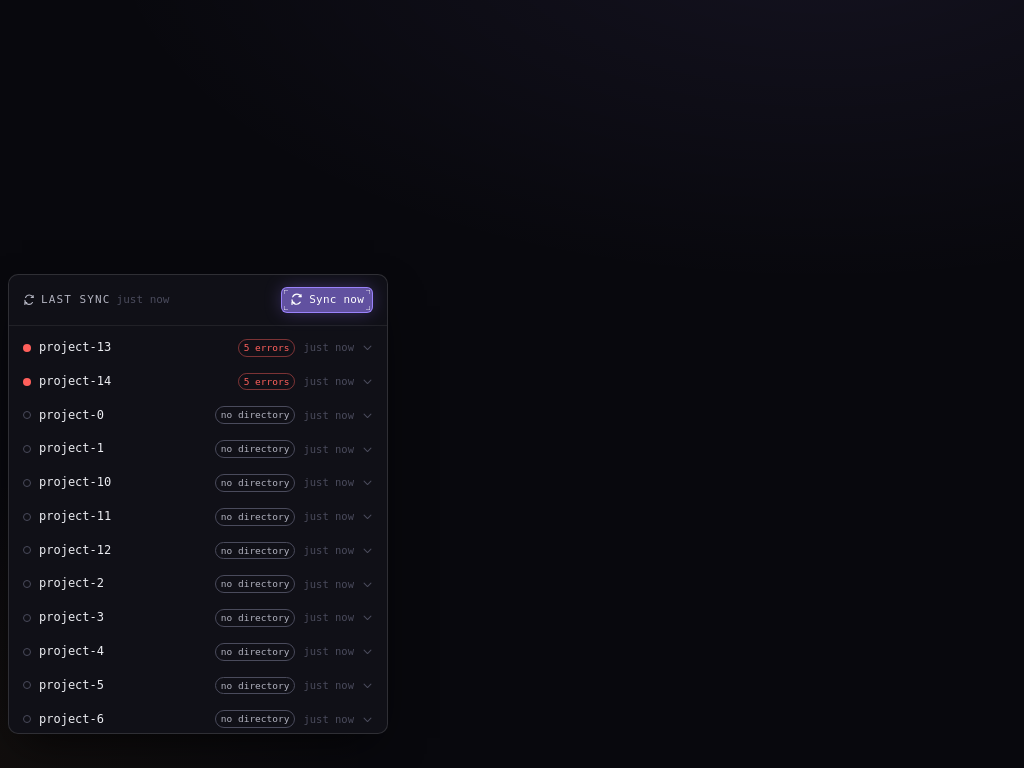
Test: reports the restore incident as zero synced, thirteen unattached and two failed
Click the text "project-13": [75, 347] box [39,340,111,354]
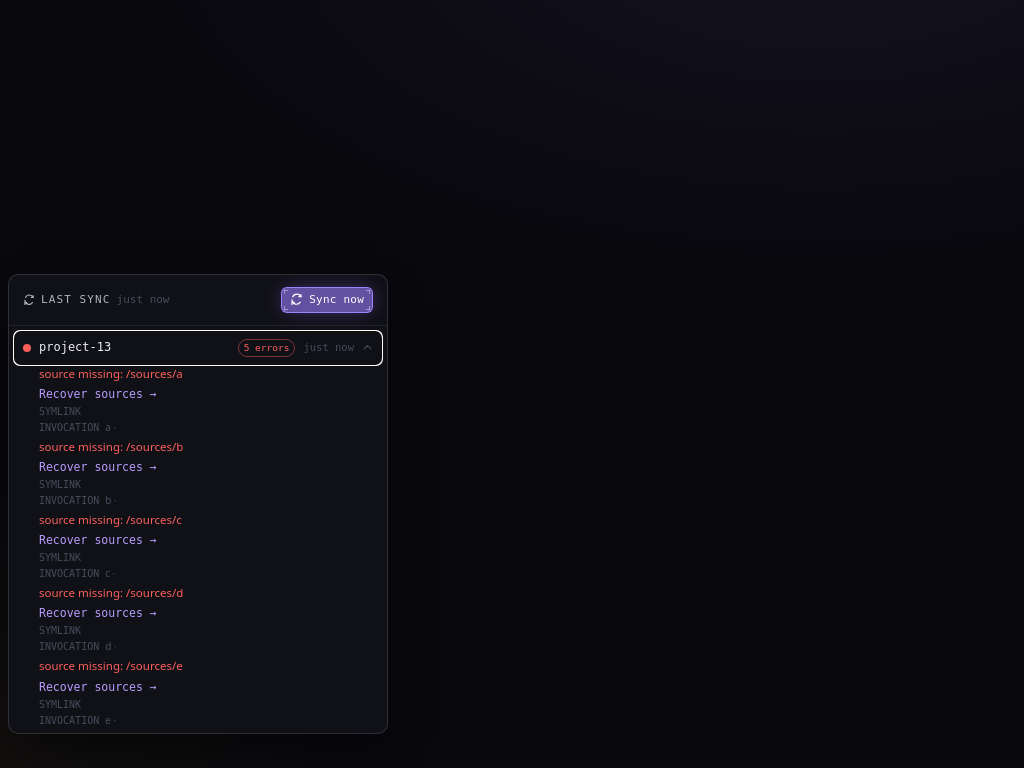
Expected: the text "source missing: /sources/a" is shown 5 times, [39,366,183,381]; [39,439,183,454]; [39,512,182,527]; [39,585,183,600]; [39,658,183,674]
